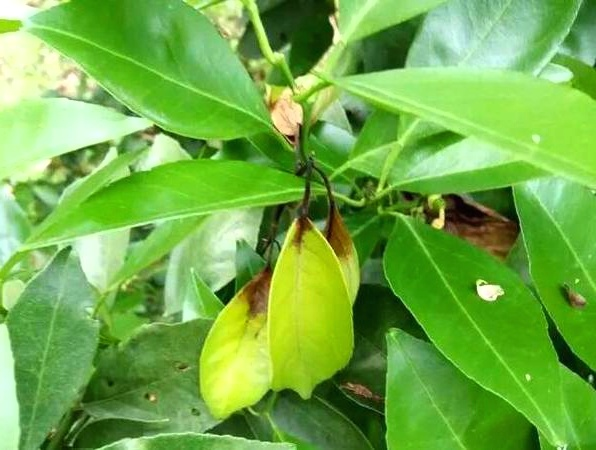Anthracnose: (274, 191, 346, 295), (218, 228, 288, 316)
